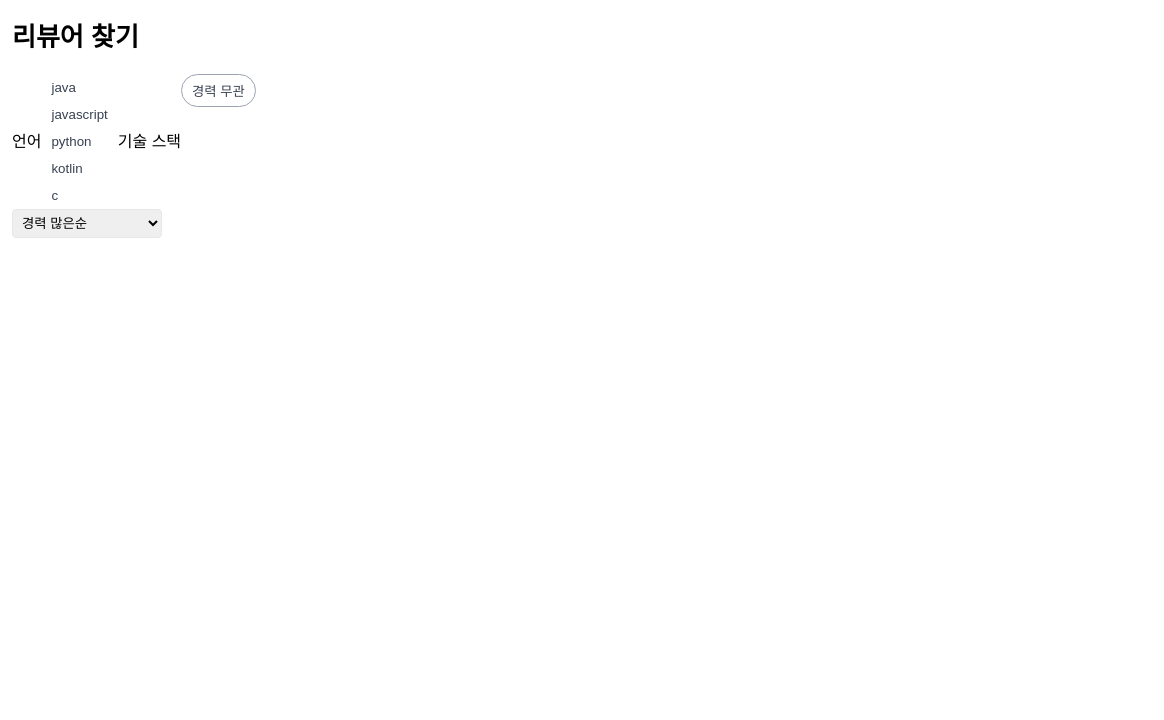
Test: 리뷰어찾기페이지 테스트 › 언어필터링 버튼을 선택하면 선택된 언어에 맞는 기술 버튼들이 화면에 나타난다.
The width and height of the screenshot is (1164, 720).
Expected: the text "react" is not shown
Click the button "javascript" at (80, 114), box [42,101,118,128]
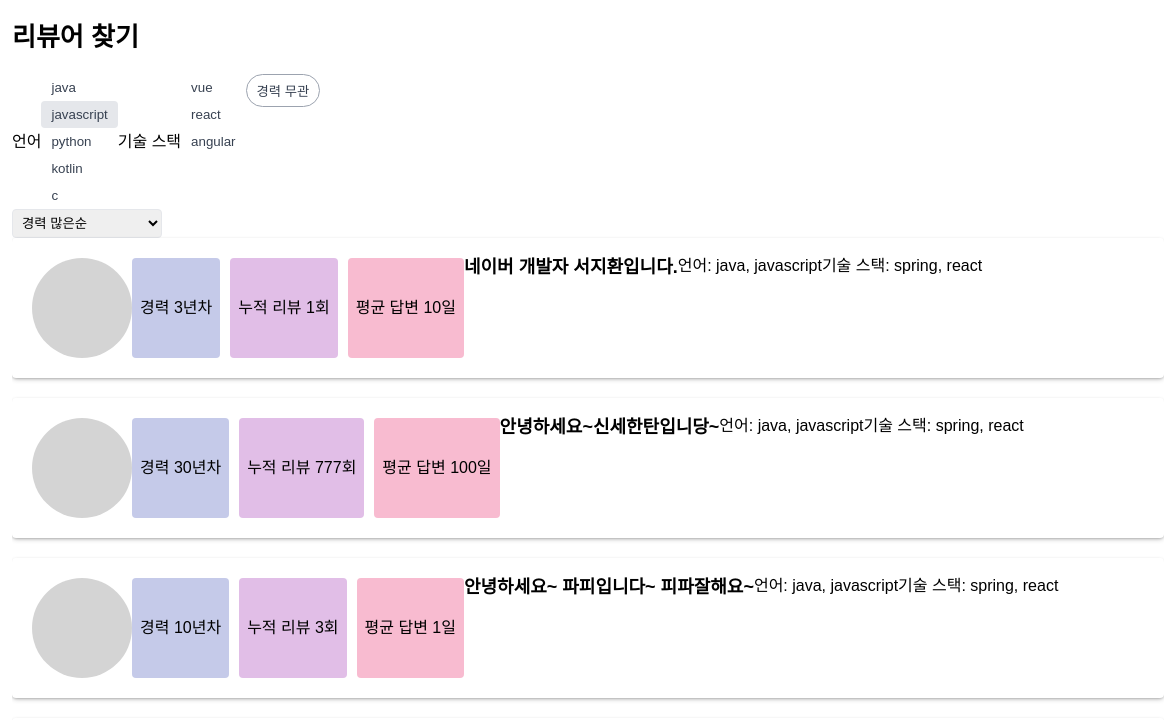
Result: the button "react" is shown at [181,101,231,128]
